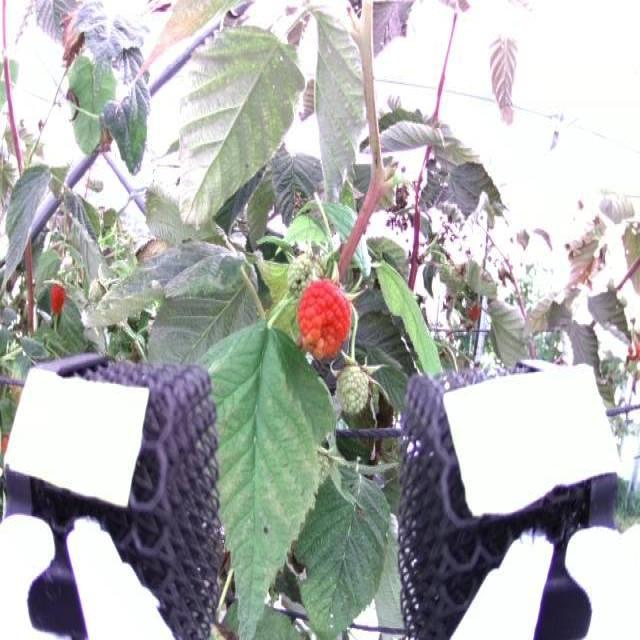Riped berries: (295, 277, 353, 359), (47, 278, 70, 314)
